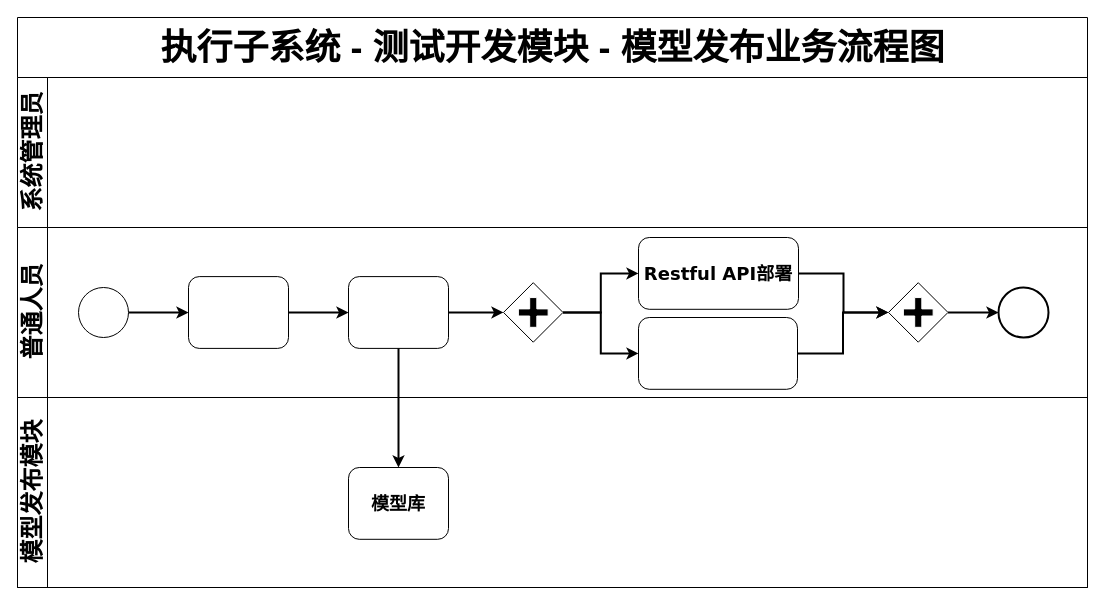
This 1105x605 diagram has some shape labels left out. The centre of each missing label's shape, as x and y in pixels:
SDK 部署: (718,352)
模型发布 到模型库: (398,312)
用户登录: (238,312)
